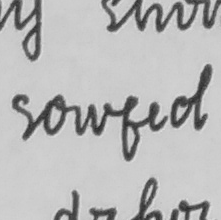d: (169, 61, 213, 133)
e: (146, 97, 167, 132)
f: (117, 92, 143, 163)
o: (40, 93, 68, 137)
s: (10, 92, 37, 142)
w: (71, 99, 113, 140)
